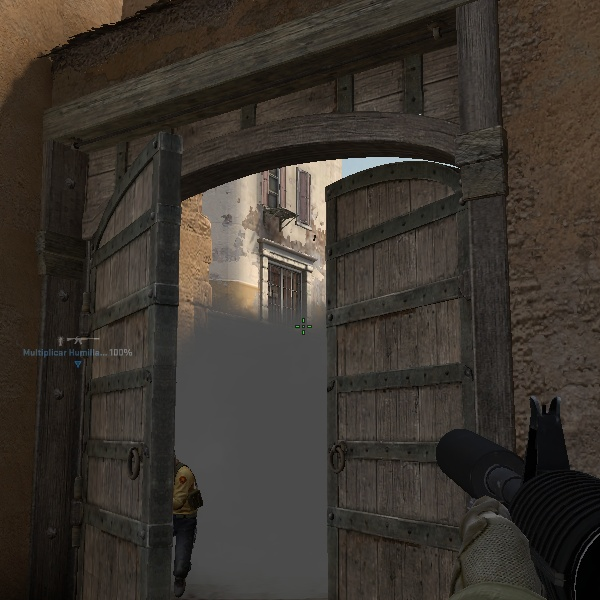t_body: (167, 458, 212, 597)
